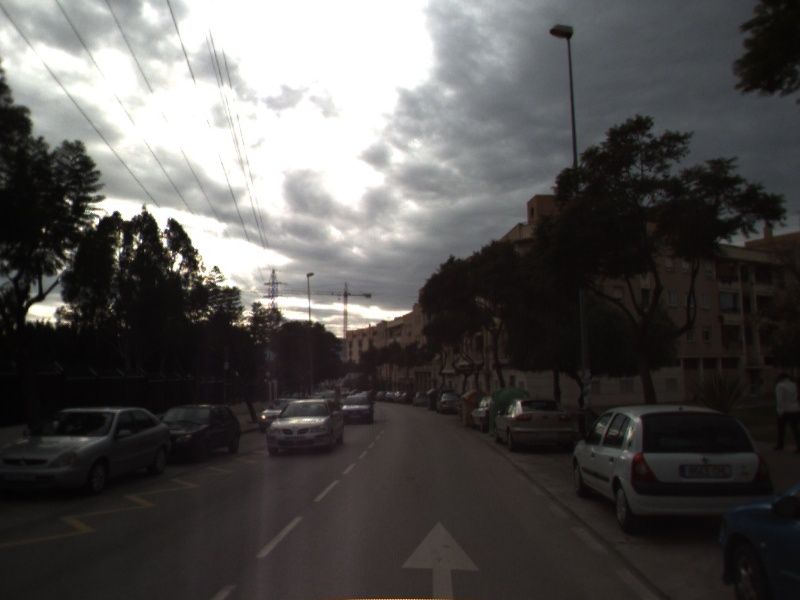STRAIGHT: (399, 518, 484, 600)
